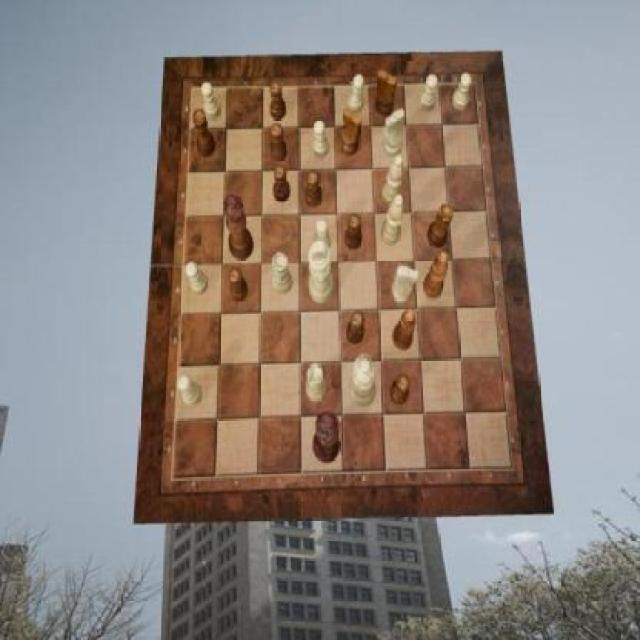bishop: (423, 252, 448, 300), (394, 308, 417, 350)
black-bishop: (312, 412, 340, 465)
black-king: (340, 108, 362, 157), (375, 71, 398, 117)
black-knight: (270, 123, 288, 162), (346, 310, 366, 344), (229, 268, 249, 302), (270, 82, 286, 122), (345, 214, 362, 250), (274, 166, 291, 202), (306, 171, 323, 207), (391, 374, 411, 404)
black-pawn: (224, 194, 254, 260)
black-queen: (192, 110, 216, 158), (428, 204, 454, 248)
black-rook: (381, 154, 404, 206), (382, 193, 404, 244)
white-bishop: (308, 240, 334, 304)
white-king: (383, 110, 405, 158), (391, 266, 418, 304)
white-knight: (177, 375, 201, 408), (186, 262, 209, 296), (452, 74, 472, 112), (202, 82, 222, 119), (420, 74, 440, 111), (312, 120, 328, 158), (348, 74, 364, 112), (314, 218, 331, 252)
white-pawn: (349, 354, 376, 408)
white-queen: (272, 254, 293, 295), (306, 363, 327, 402)
